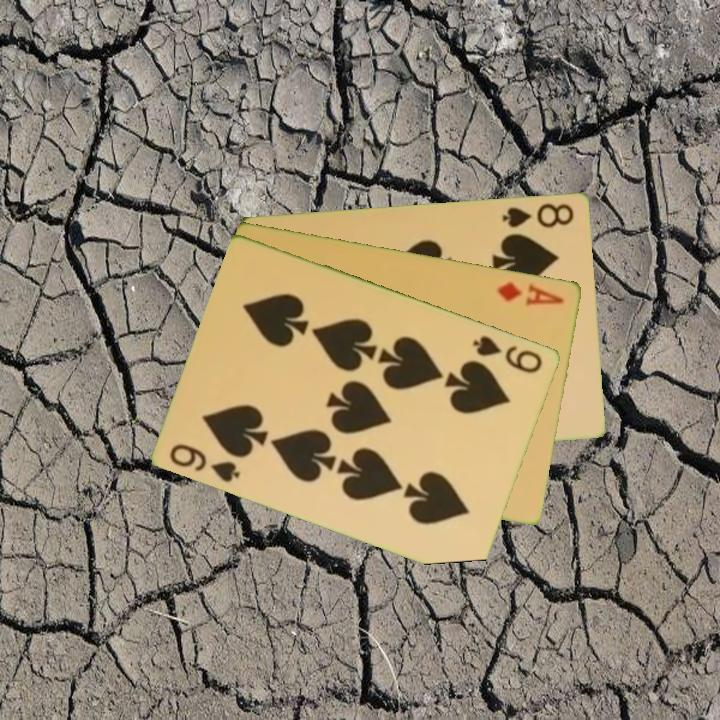8s: (499, 199, 577, 231)
9s: (166, 440, 244, 485), (469, 331, 546, 376)
Ad: (494, 278, 567, 309)
